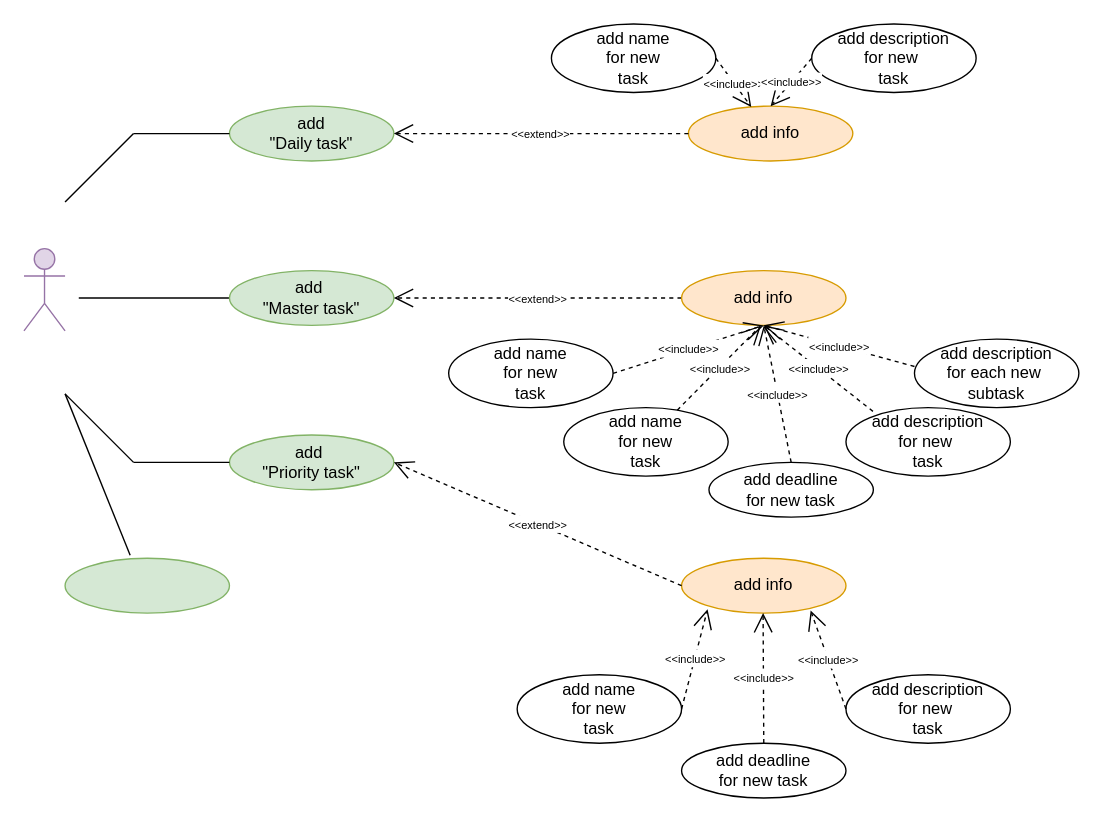
The diagram is 1103 pixels wide and 822 high, and some of its shapes have lost their labels. The shapes that lost their labels are listed below. From the top down, each one's centre as x and y in pixels, then its label:
pixel 44 289: User
pixel 146 585: remove task
